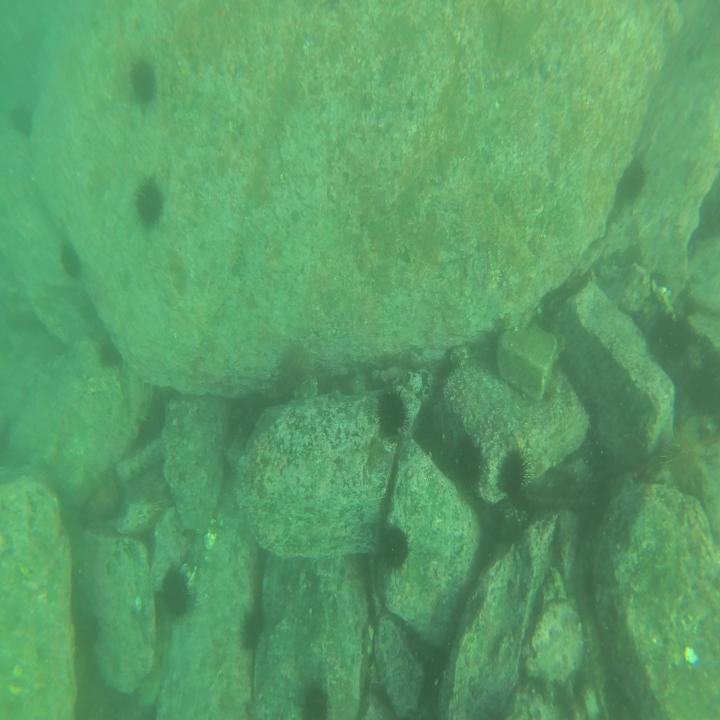echinus: (664, 418, 702, 490), (498, 446, 532, 508), (651, 304, 687, 362), (380, 386, 411, 444), (133, 172, 164, 228), (378, 520, 412, 569), (614, 158, 647, 207), (130, 53, 158, 106), (158, 572, 189, 617), (457, 439, 483, 487), (300, 682, 330, 719), (240, 611, 263, 656), (98, 337, 126, 369), (58, 244, 82, 278), (9, 104, 34, 134)
